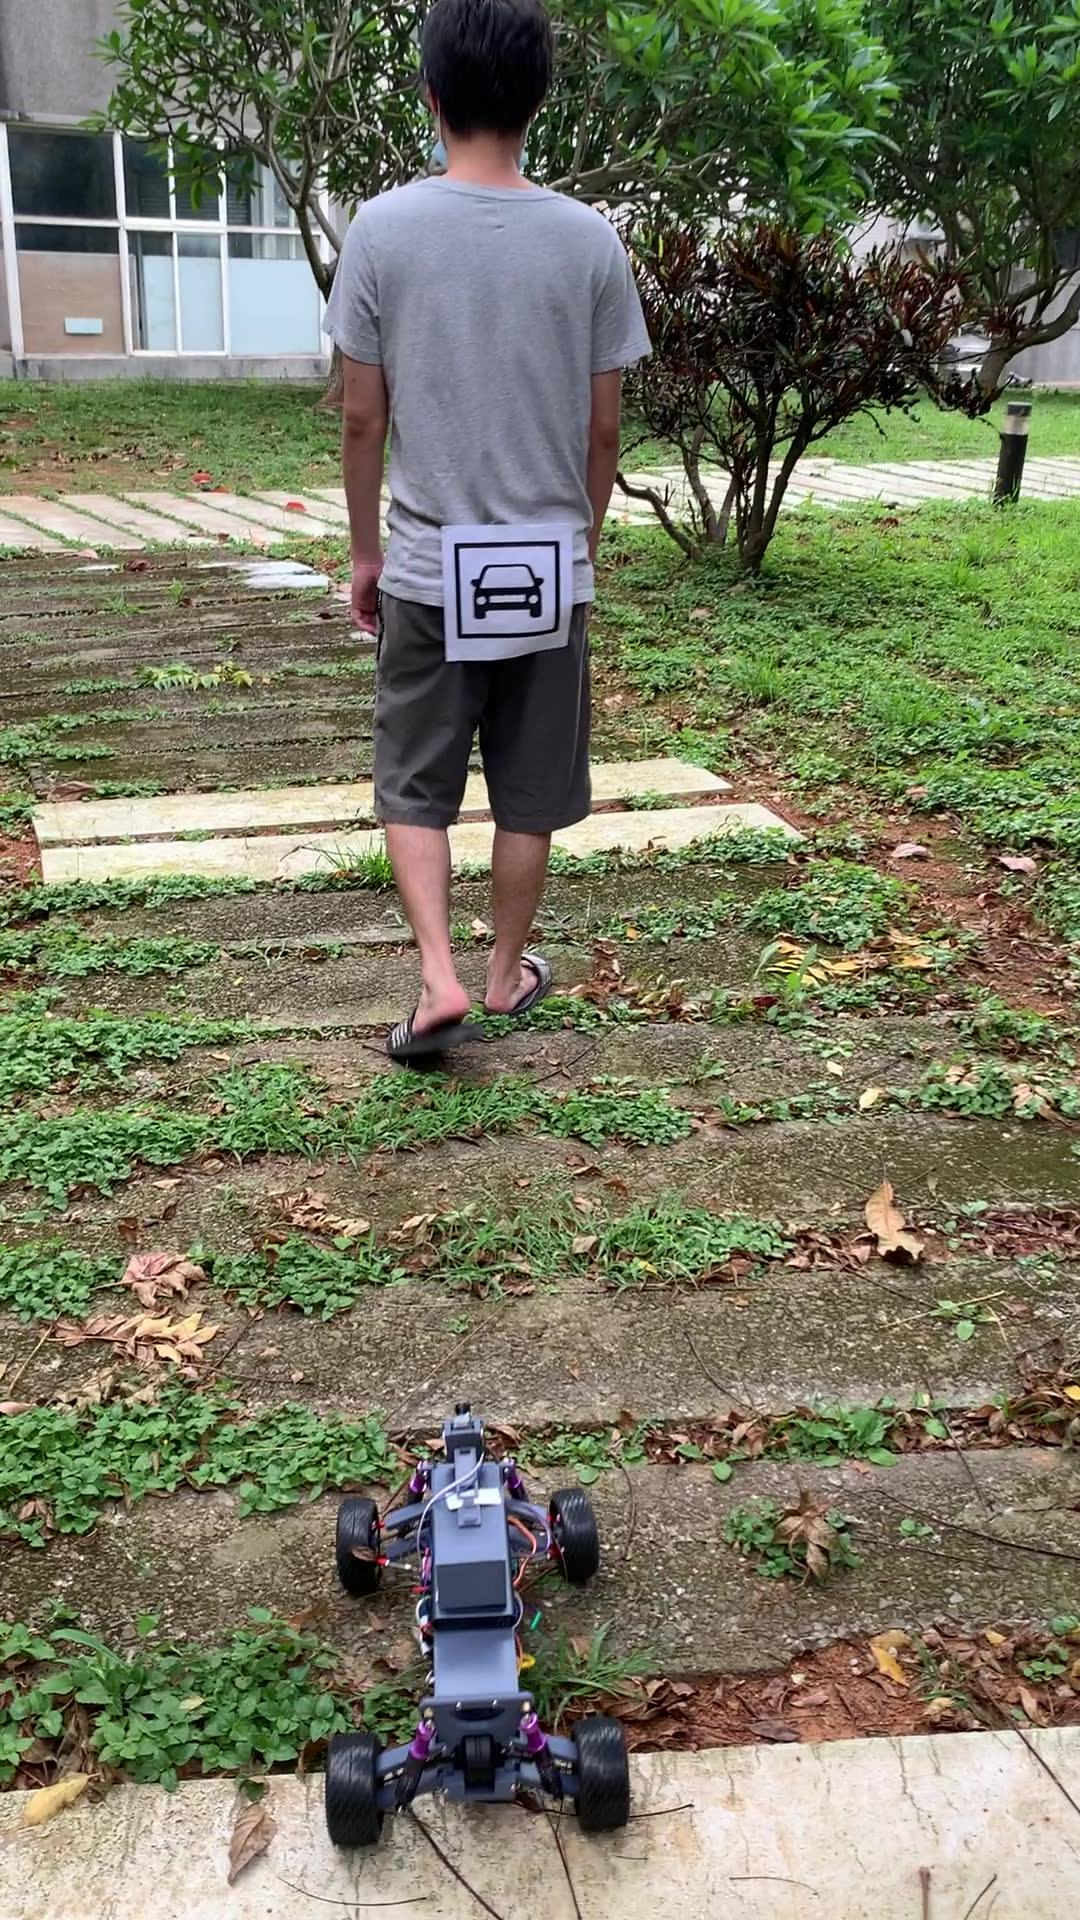car_img: (454, 541, 560, 640)
